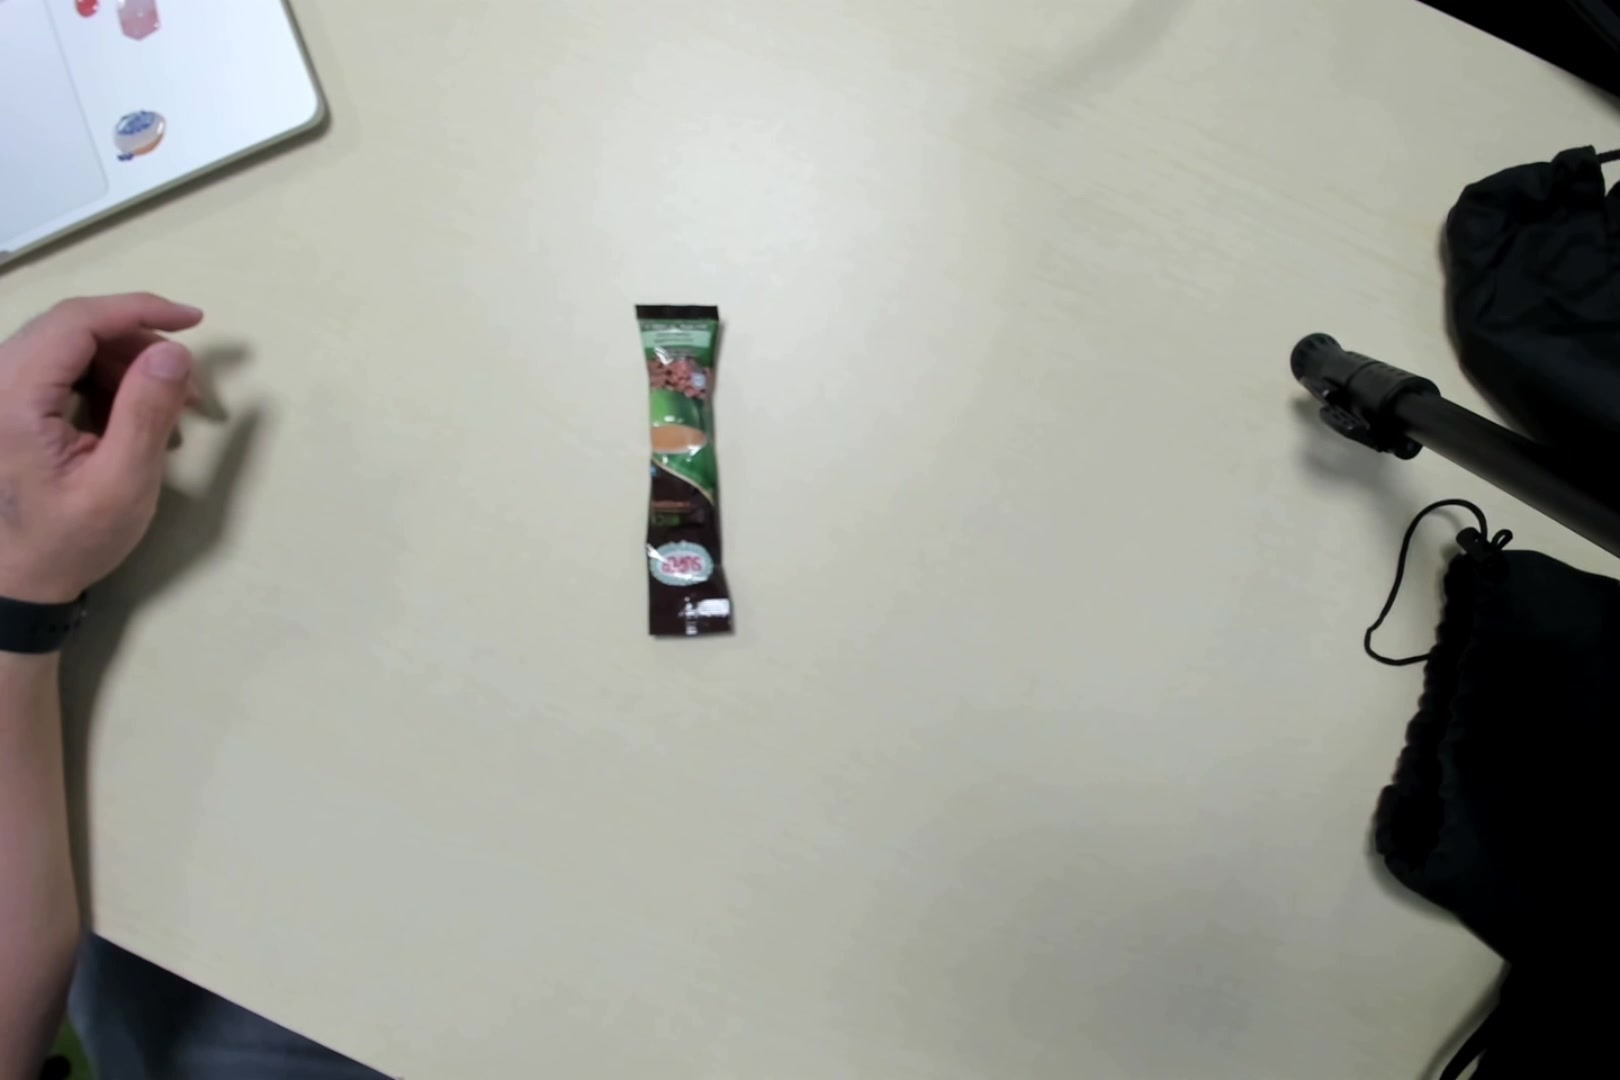Coffee(Powder)_0-99g_Halal_NonHealthy: (635, 297, 732, 642)
